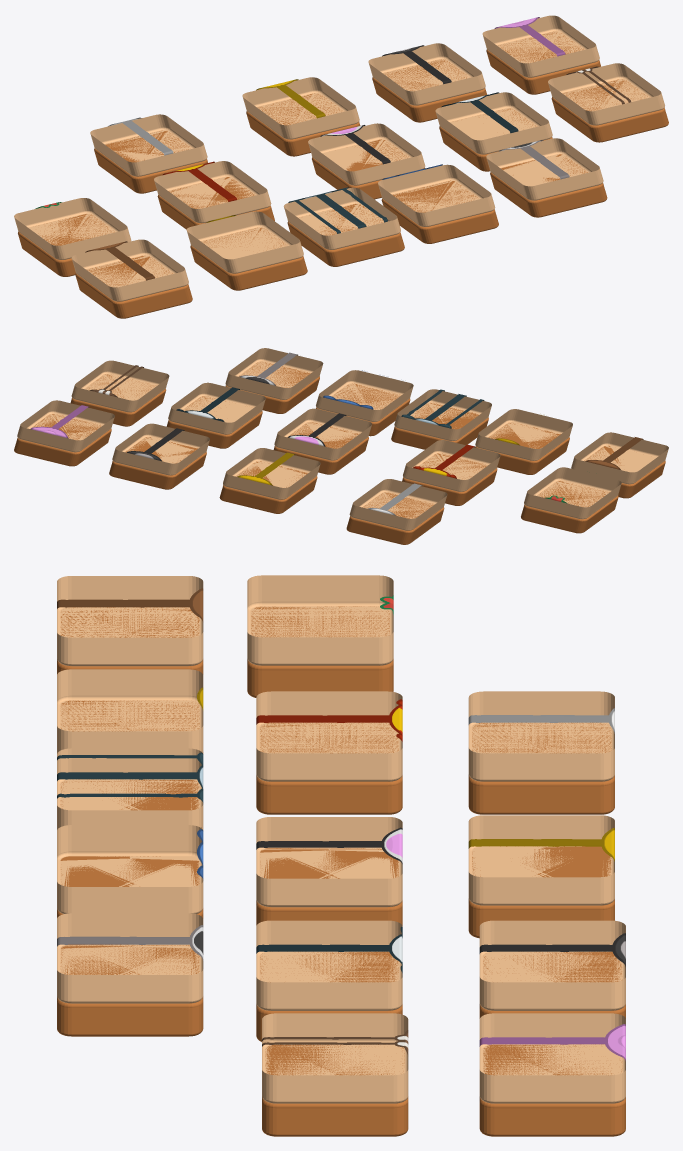
The model's file is Tiles.fbx.
3 views of the same model, one above another, from view 1: azimuth 30°, elevation 25°; view 2: azimuth 150°, elevation 25°; view 3: azimuth 270°, elevation 25° (orthographic). The views are drawn at different scales.
Parts seen in each view (by area): view 1: Cube, Cube_19, Cube_14, Cube_13, Cube_20, Cube_12, Cube_17, Cube_15, Cube_21, Cube_10, Cube_16, Cube_11 (+15 smaller); view 2: Cube, Cube_12, Cube_15, Cube_10, Cube_17, Cube_16, Cube_18, Cube_22, Cube_14, Cube_11, Cube_21, Cube_13 (+15 smaller); view 3: Cube, Cube_16, Cube_10, Cube_22, Cube_21, Cube_17, Cube_13, Cube_12, Cube_14, Cube_15, Cube_11, Cube_20 (+15 smaller).
Part boxes in pixels (bbox=[...]): Cube: bbox=[242, 77, 360, 156]; Cube_19: bbox=[283, 187, 400, 249]; Cube_14: bbox=[482, 15, 599, 77]; Cube_13: bbox=[368, 43, 485, 105]; Cube_20: bbox=[186, 211, 303, 273]; Cube_12: bbox=[435, 92, 552, 154]; Cube_17: bbox=[486, 138, 603, 200]; Cube_15: bbox=[548, 63, 664, 125]; Cube_21: bbox=[71, 239, 188, 301]; Cube_10: bbox=[154, 161, 271, 223]; Cube_16: bbox=[90, 114, 207, 176]; Cube_11: bbox=[308, 123, 425, 185]; Cube: bbox=[219, 448, 320, 513]; Cube_12: bbox=[168, 382, 265, 434]; Cube_15: bbox=[71, 360, 169, 412]; Cube_10: bbox=[403, 440, 500, 491]; Cube_17: bbox=[225, 348, 323, 399]; Cube_16: bbox=[349, 479, 447, 530]; Cube_18: bbox=[316, 370, 413, 421]; Cube_22: bbox=[524, 467, 621, 519]; Cube_14: bbox=[17, 400, 114, 452]; Cube_11: bbox=[274, 408, 371, 460]; Cube_21: bbox=[571, 432, 668, 484]; Cube_13: bbox=[112, 423, 209, 475]; Cube: bbox=[468, 815, 614, 938]; Cube_16: bbox=[468, 691, 614, 781]; Cube_10: bbox=[256, 691, 402, 781]; Cube_22: bbox=[247, 575, 393, 665]; Cube_21: bbox=[57, 576, 203, 666]; Cube_17: bbox=[57, 913, 203, 1003]; Cube_13: bbox=[479, 920, 625, 1010]; Cube_12: bbox=[256, 920, 402, 1010]; Cube_14: bbox=[479, 1013, 625, 1103]; Cube_15: bbox=[262, 1013, 408, 1103]; Cube_11: bbox=[256, 817, 402, 907]; Cube_20: bbox=[57, 669, 203, 752].
Size of the model in its own units: 1635 by 90 by 777.
16 materials, 14 textured.
